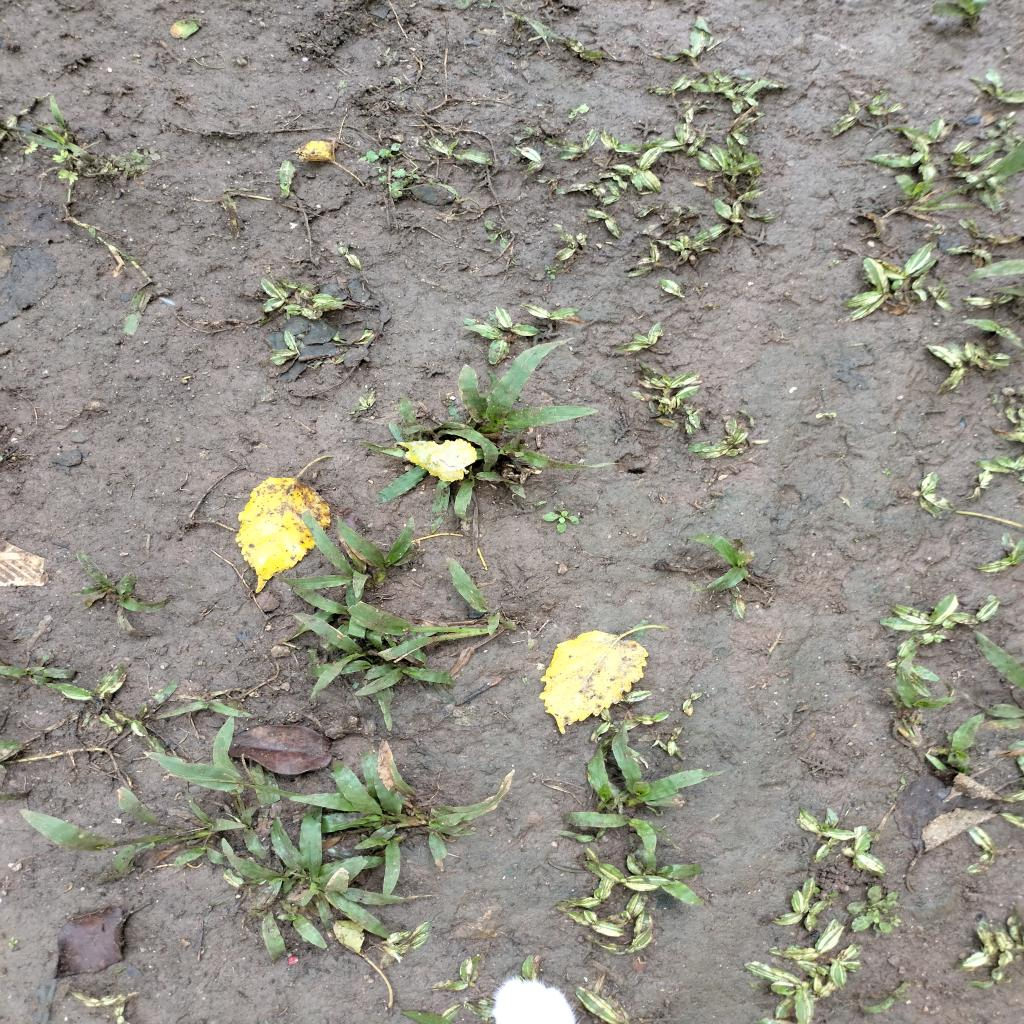masker: (389, 184, 406, 200), (362, 149, 380, 163), (390, 167, 408, 179), (376, 147, 393, 159), (390, 142, 403, 152), (378, 174, 388, 183)
rambat bawah: (348, 336, 631, 522), (288, 737, 518, 884), (216, 800, 400, 963), (14, 784, 247, 880), (338, 556, 523, 661), (613, 713, 731, 811), (271, 508, 369, 612), (279, 611, 372, 700), (333, 511, 418, 585), (559, 809, 661, 860), (687, 530, 755, 604), (345, 662, 459, 698), (932, 711, 992, 779), (884, 659, 960, 708), (585, 742, 622, 814)
